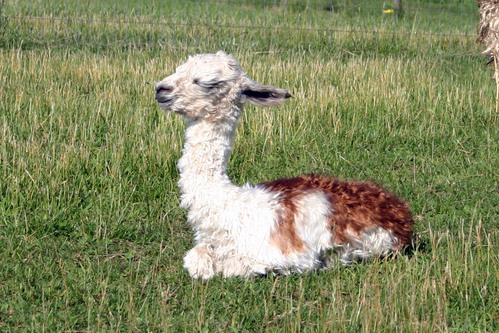alpaca: (154, 49, 417, 280)
